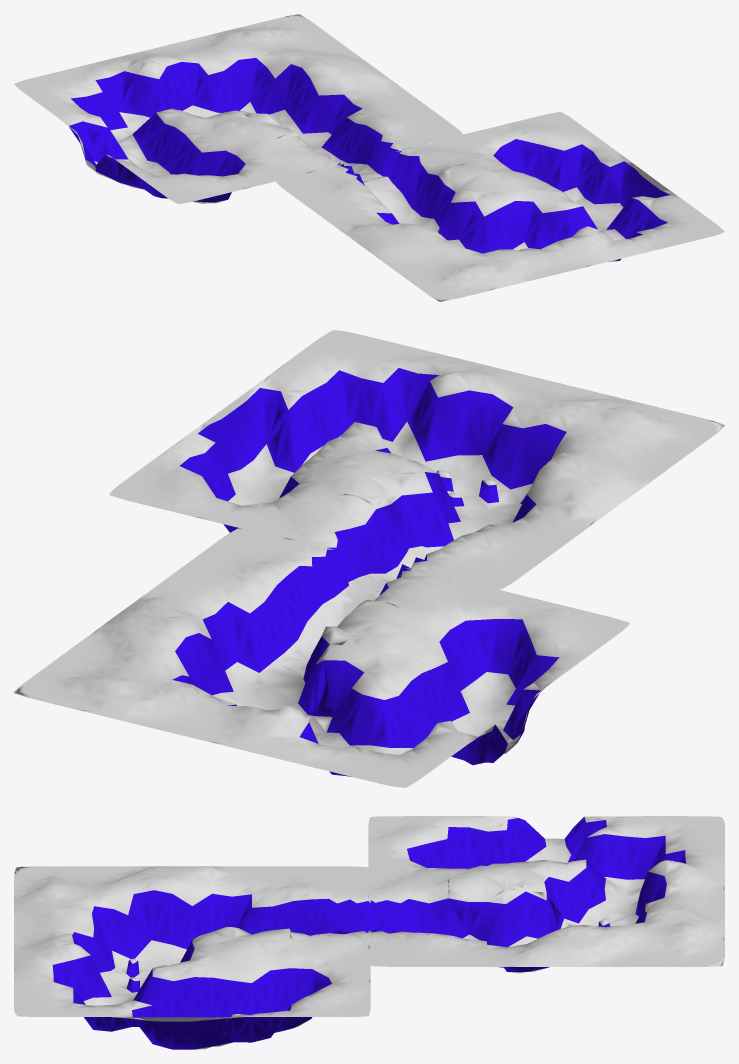
Rendered from Terrain2gigabigga.glb.
3 views of the same model, one above another, from view 1: azimuth 30°, elevation 25°; view 2: azimuth 150°, elevation 25°; view 3: azimuth 270°, elevation 25° (orthographic). The views are drawn at different scales.
Parts seen in each view (by area): view 1: Plane; view 2: Plane; view 3: Plane.
Part boxes in pixels (box(x1,y1,x2,y2)): Plane: box(14, 14, 724, 301); Plane: box(14, 330, 724, 787); Plane: box(14, 816, 724, 1049).
Size of the model in its own units: 49.5 by 6.99 by 74.02.
